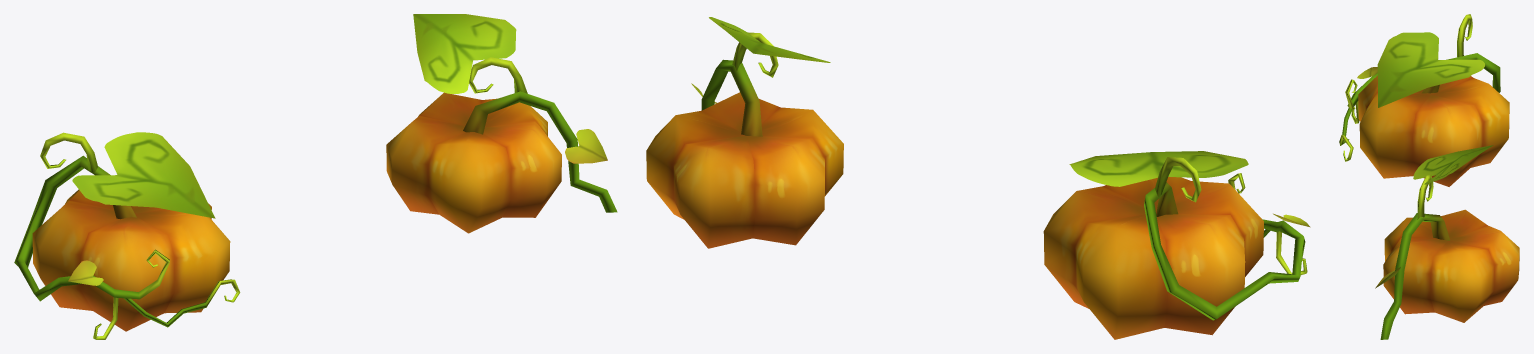
The model's file is nangua.FBX.
The picture shows the model from 3 angles, left to right: view 1: azimuth 30°, elevation 25°; view 2: azimuth 150°, elevation 25°; view 3: azimuth 270°, elevation 25°; orthographic projection. The views are drawn at different scales.
Visible parts, largest first — view 1: nangua, nangua_ncl1_2, nanguateng_01, nanguateng_02; view 2: nangua, nangua_ncl1_2, nanguateng_01, nanguateng_02; view 3: nangua, nangua_ncl1_2, nanguateng_01, nanguateng_02.
Boxes of the visible parts, left/top/right/bottom form: nangua: left=32, top=189, right=230, bottom=331; nangua_ncl1_2: left=386, top=92, right=561, bottom=233; nanguateng_01: left=14, top=132, right=240, bottom=339; nanguateng_02: left=413, top=14, right=617, bottom=212; nangua: left=1043, top=177, right=1263, bottom=339; nangua_ncl1_2: left=646, top=92, right=843, bottom=248; nanguateng_01: left=1069, top=151, right=1310, bottom=320; nanguateng_02: left=691, top=17, right=830, bottom=136; nangua: left=1358, top=75, right=1509, bottom=186; nangua_ncl1_2: left=1383, top=209, right=1519, bottom=322; nanguateng_01: left=1339, top=14, right=1500, bottom=161; nanguateng_02: left=1375, top=145, right=1493, bottom=339.
Bounding box in the file's own units: 85.29 × 25.83 × 29.4.
